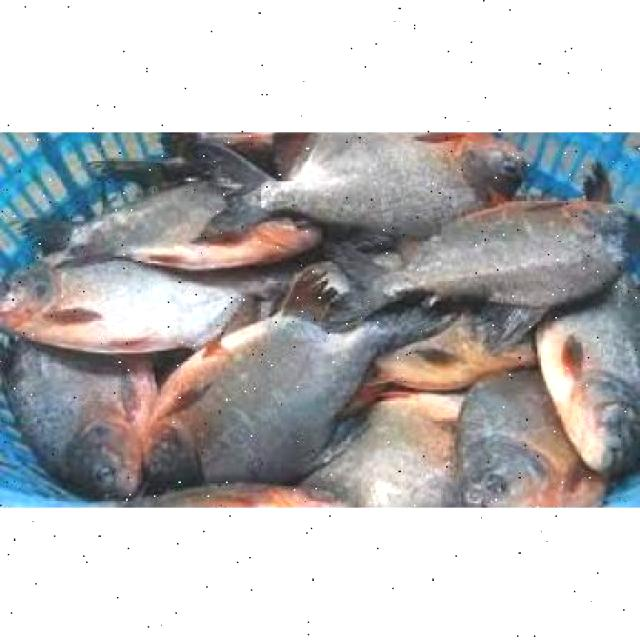ikan-pacu: (144, 311, 401, 480), (328, 198, 632, 322), (193, 131, 527, 232), (2, 332, 146, 498), (45, 179, 321, 264), (0, 260, 240, 346), (461, 366, 607, 504), (533, 306, 639, 468)
